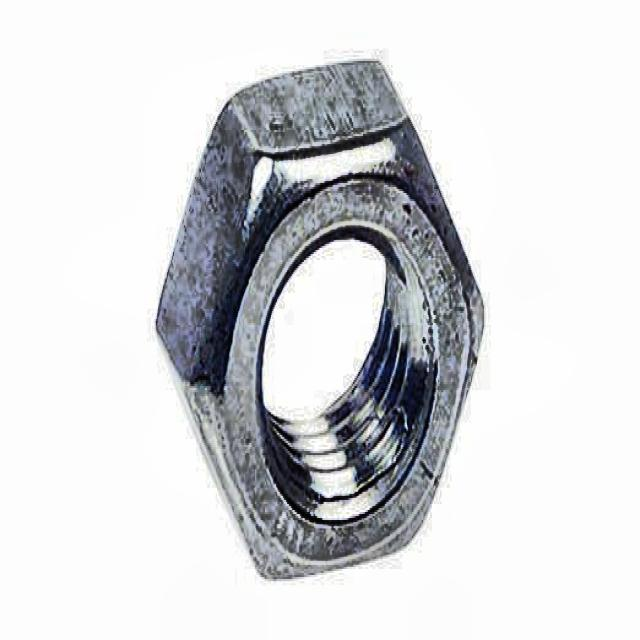Nut Detection - v1 Nut Dataset: (125, 53, 494, 605)
